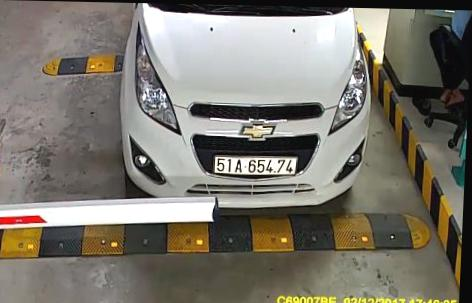License_Plate: (211, 152, 300, 180)
